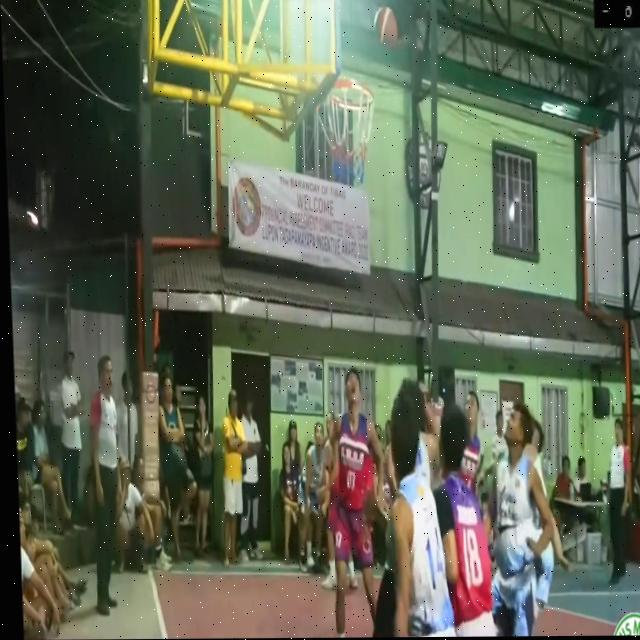basketball: (372, 3, 399, 55)
hoop: (311, 77, 383, 206)
